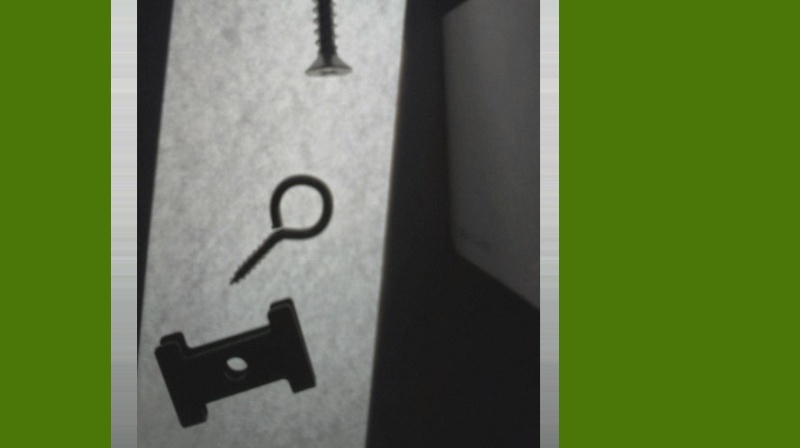O001: (228, 168, 336, 287)
O002: (152, 296, 314, 428)
S001: (298, 0, 352, 80)
